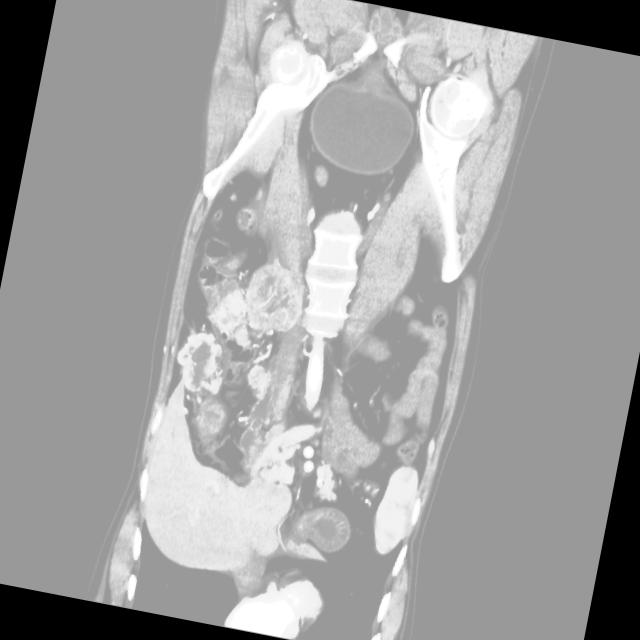TUMOR: (147, 114, 551, 456)
